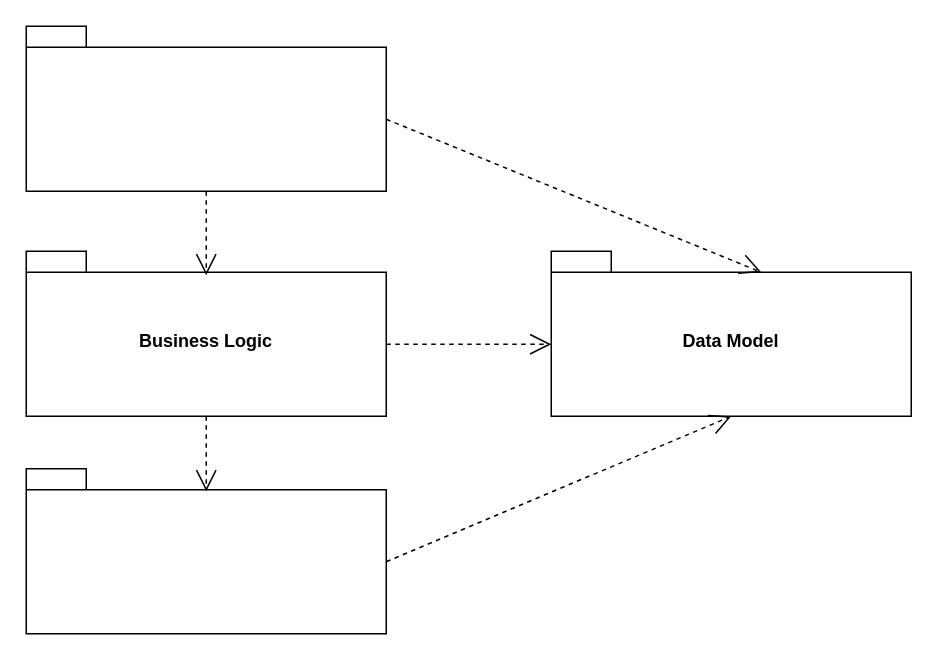
The diagram is 938 pixels wide and 660 high, and some of its shapes have lost their labels. Here are the shapes that lost their labels. From the top down, the centre of each, then its label:
the point at 205,108: Graphical User Interface (com.example.assignment1) (JavaFX Controllers)
the point at 205,550: Data Access
